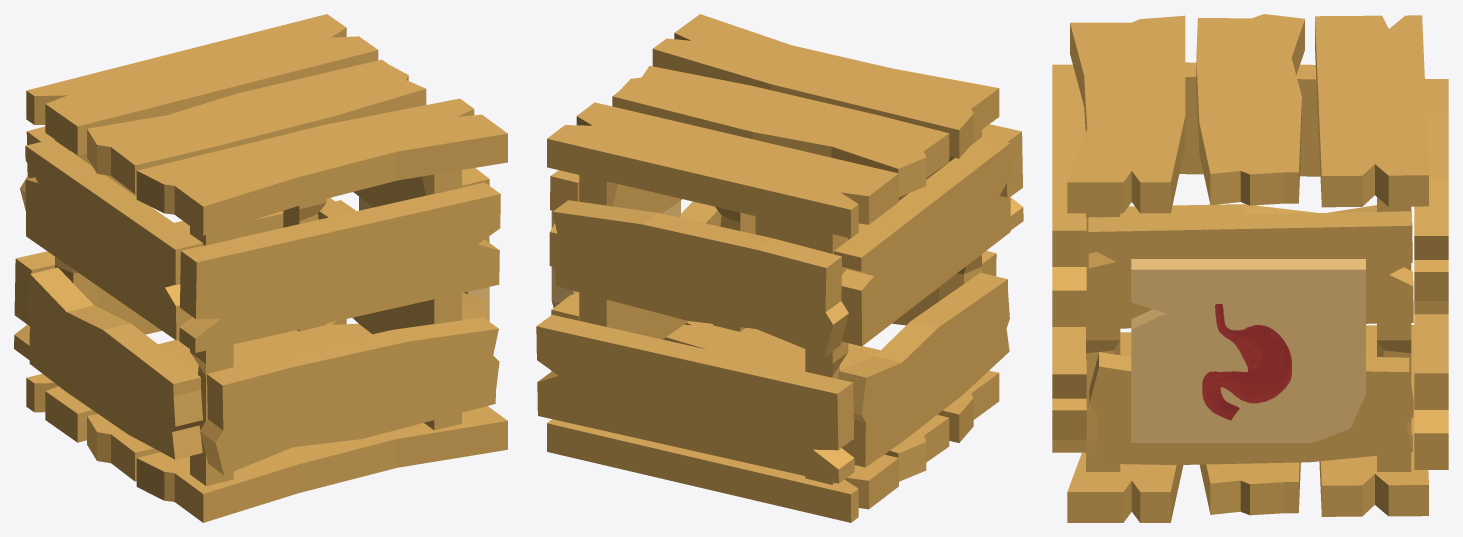
File: BoxStomach.fbx
The picture shows the model from 3 angles, left to right: view 1: azimuth 30°, elevation 25°; view 2: azimuth 150°, elevation 25°; view 3: azimuth 270°, elevation 25°; orthographic projection. The views are drawn at different scales.
Visible parts, largest first — view 1: Box_Stomach; view 2: Box_Stomach; view 3: Box_Stomach.
Part boxes in pixels (box(x1,y1,x2,y2)): Box_Stomach: box(14, 14, 507, 522); Box_Stomach: box(536, 14, 1023, 522); Box_Stomach: box(1052, 14, 1448, 522).
Bounding box in the file's own units: 57.66 × 60.68 × 54.7.
